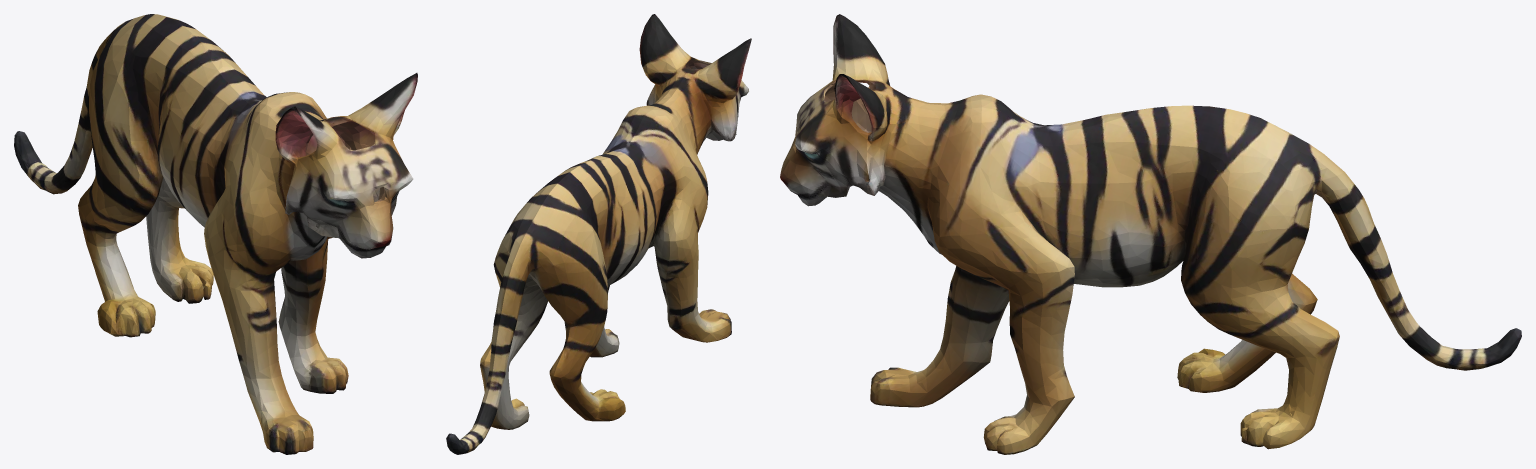
The model's file is opal_backed_thylacine.glb.
3 views of the same model, side by side, from view 1: azimuth 30°, elevation 25°; view 2: azimuth 150°, elevation 25°; view 3: azimuth 270°, elevation 25° (orthographic). The views are drawn at different scales.
Parts seen in each view (by area): view 1: geometry_0; view 2: geometry_0; view 3: geometry_0.
Boxes of the visible parts, x1,y1,x2,y2 form: geometry_0: (14,14,417,454); geometry_0: (446,14,751,454); geometry_0: (780,14,1521,454).
Size of the model in its own units: 0.2331 by 0.5619 by 0.9998.
1 material, 1 textured.
